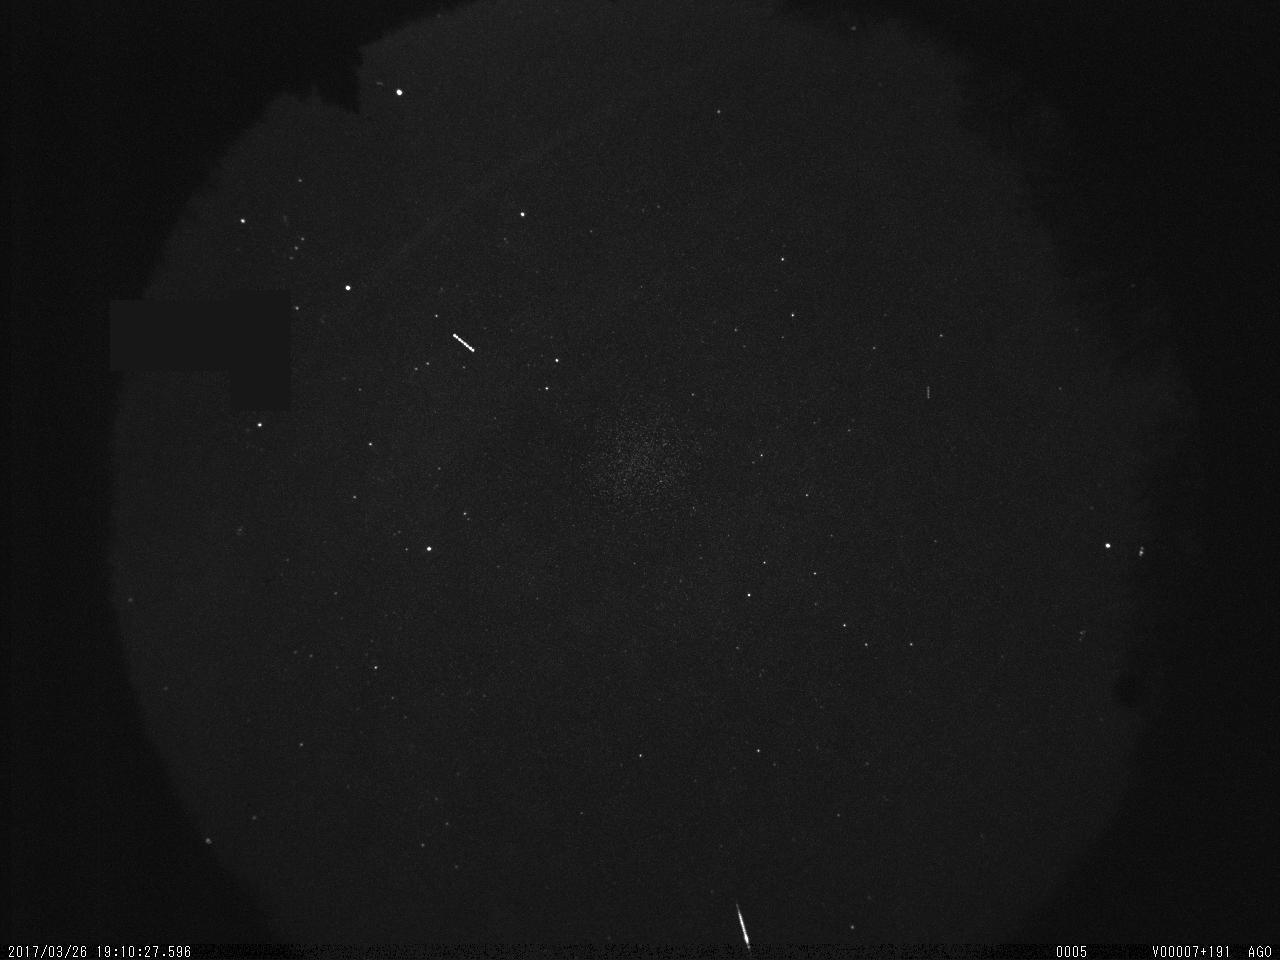meteor: (723, 887, 764, 953)
satelite: (451, 327, 480, 368)
